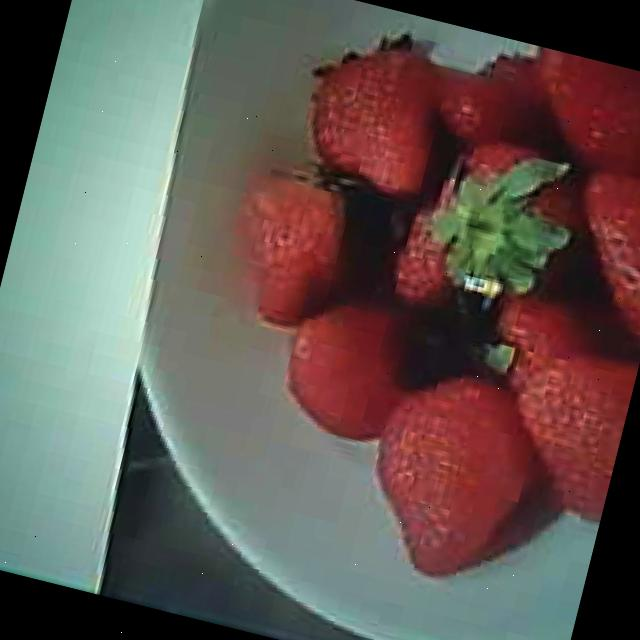strawberry: (350, 360, 548, 594), (492, 342, 638, 528)
